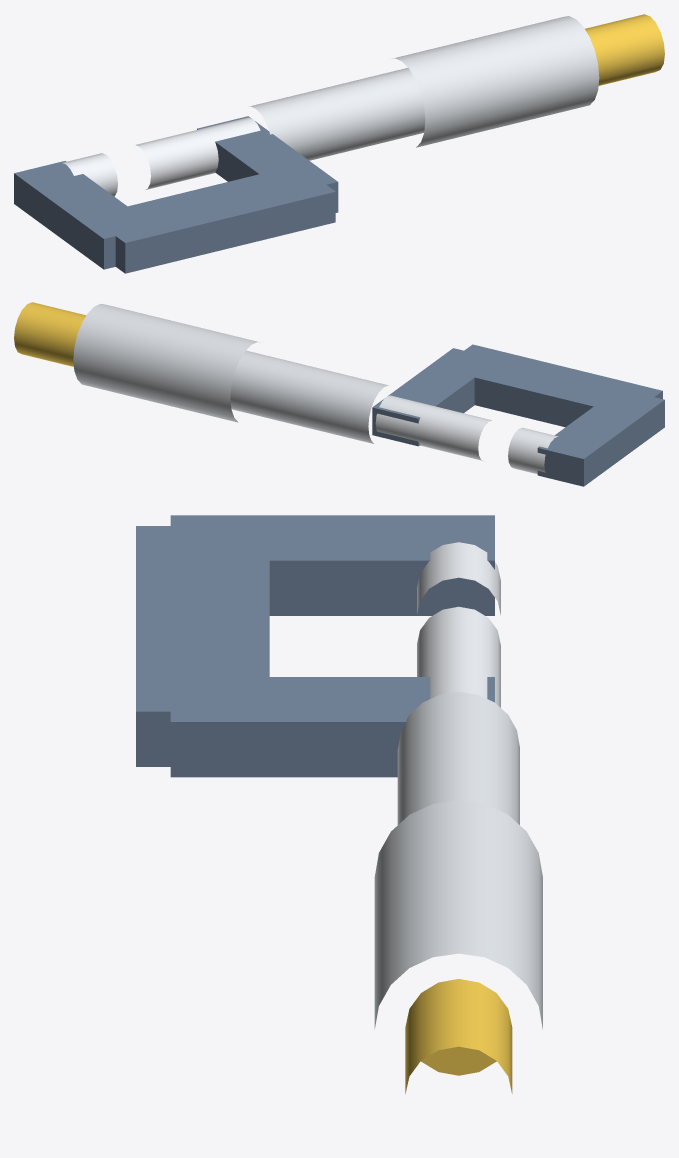
The model's file is micrometro.glb.
3 views of the same model, one above another, from view 1: azimuth 30°, elevation 25°; view 2: azimuth 150°, elevation 25°; view 3: azimuth 270°, elevation 25° (orthographic). The views are drawn at different scales.
Visible parts, largest first — view 1: tambor-bainha, arco-termico, fuso-bigorna, catraca; view 2: tambor-bainha, arco-termico, fuso-bigorna, catraca; view 3: arco-termico, tambor-bainha, fuso-bigorna, catraca.
Part boxes in pixels (<box>): tambor-bainha: <box>249,16,599,160</box>; arco-termico: <box>14,116,338,273</box>; fuso-bigorna: <box>62,117,260,196</box>; catraca: <box>585,14,664,85</box>; tambor-bainha: <box>73,304,388,443</box>; arco-termico: <box>372,344,664,486</box>; fuso-bigorna: <box>375,395,558,474</box>; catraca: <box>14,302,86,366</box>; arco-termico: <box>136,515,494,777</box>; tambor-bainha: <box>374,692,542,1029</box>; fuso-bigorna: <box>417,542,500,707</box>; catraca: <box>405,979,512,1094</box>.
Bounding box in the file's own units: 3.42 × 0.44 × 1.06.
